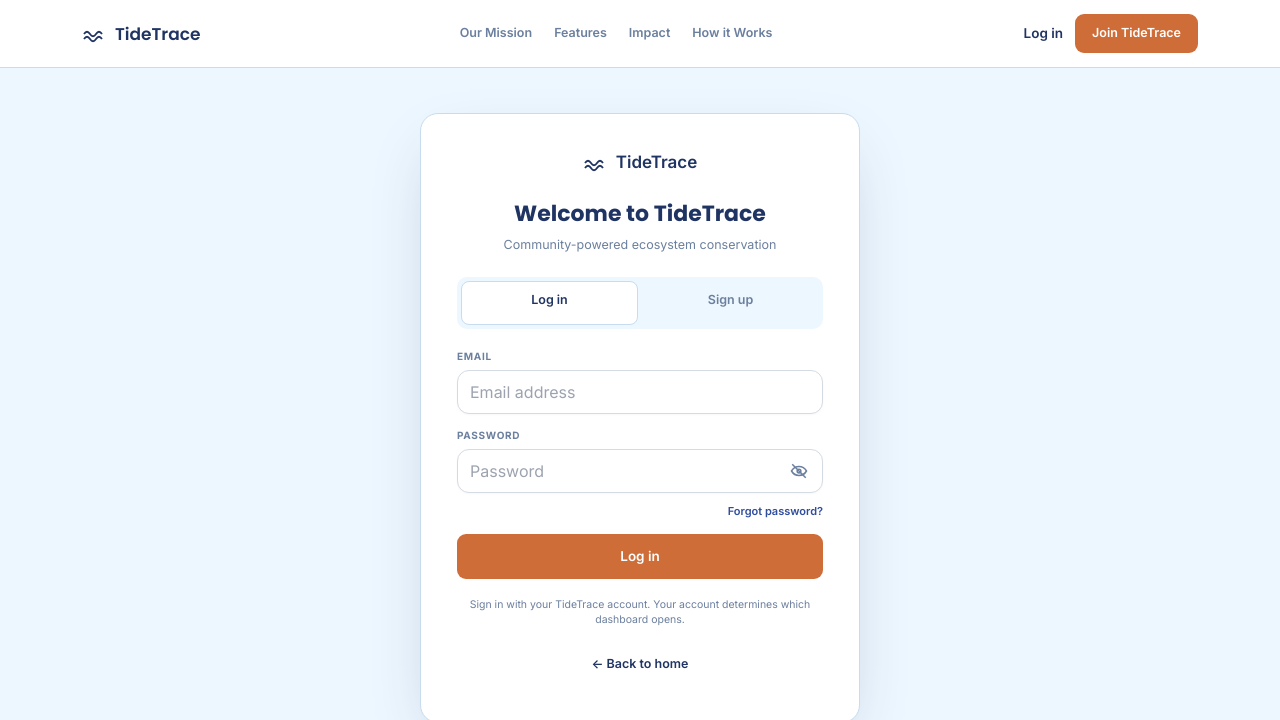
backend authentication › rejects suspended accounts even when password login succeeds
This screenshot has width=1280, height=720.
Type "member@example.test" into the field labelled "Email". click: [640, 392]
box: [457, 370, 823, 414]
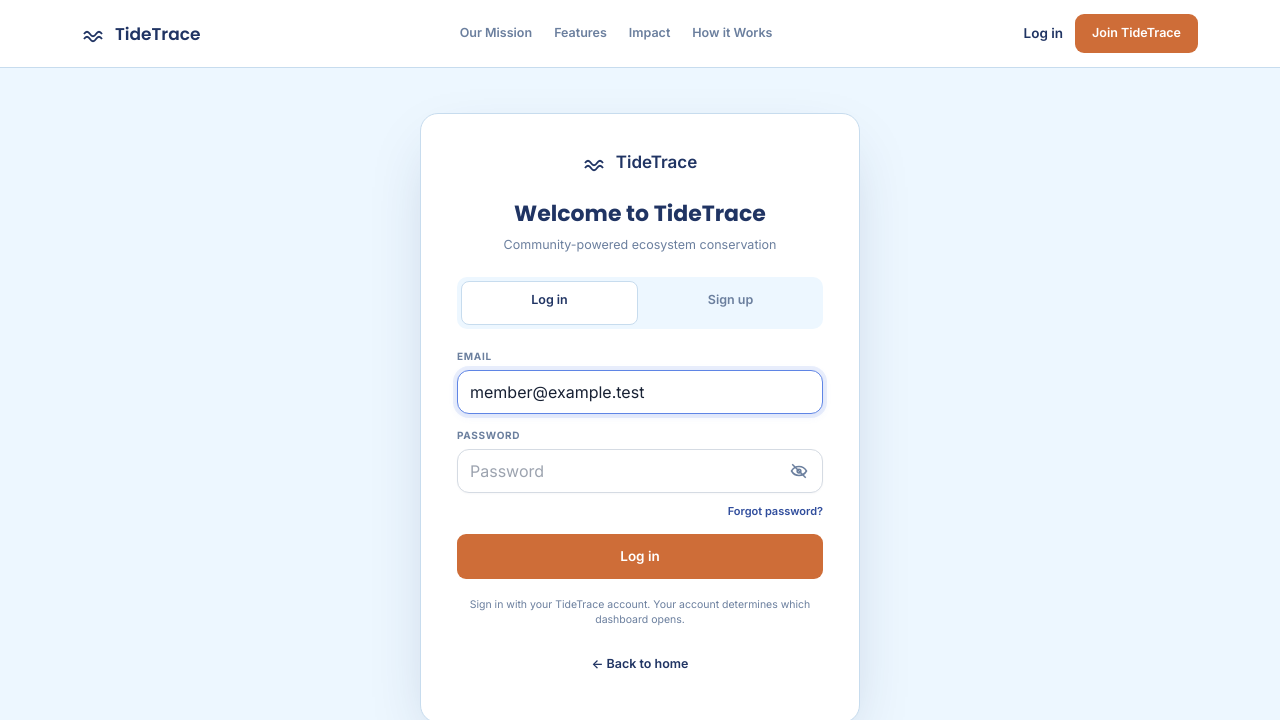
Type "correct-password" into the password field labelled "Password". click: [640, 471]
box: [457, 449, 823, 493]
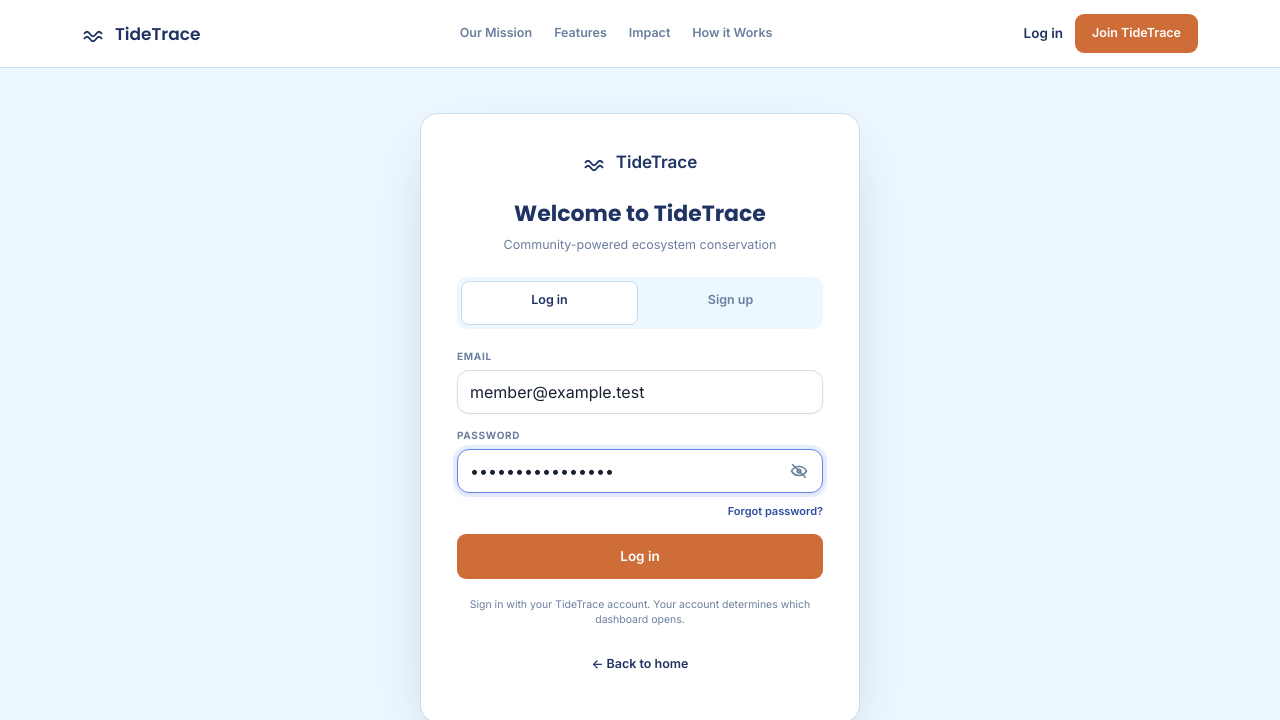
Click the button "Log in". click: [640, 556]
box: [457, 534, 823, 579]
(page scrolled)
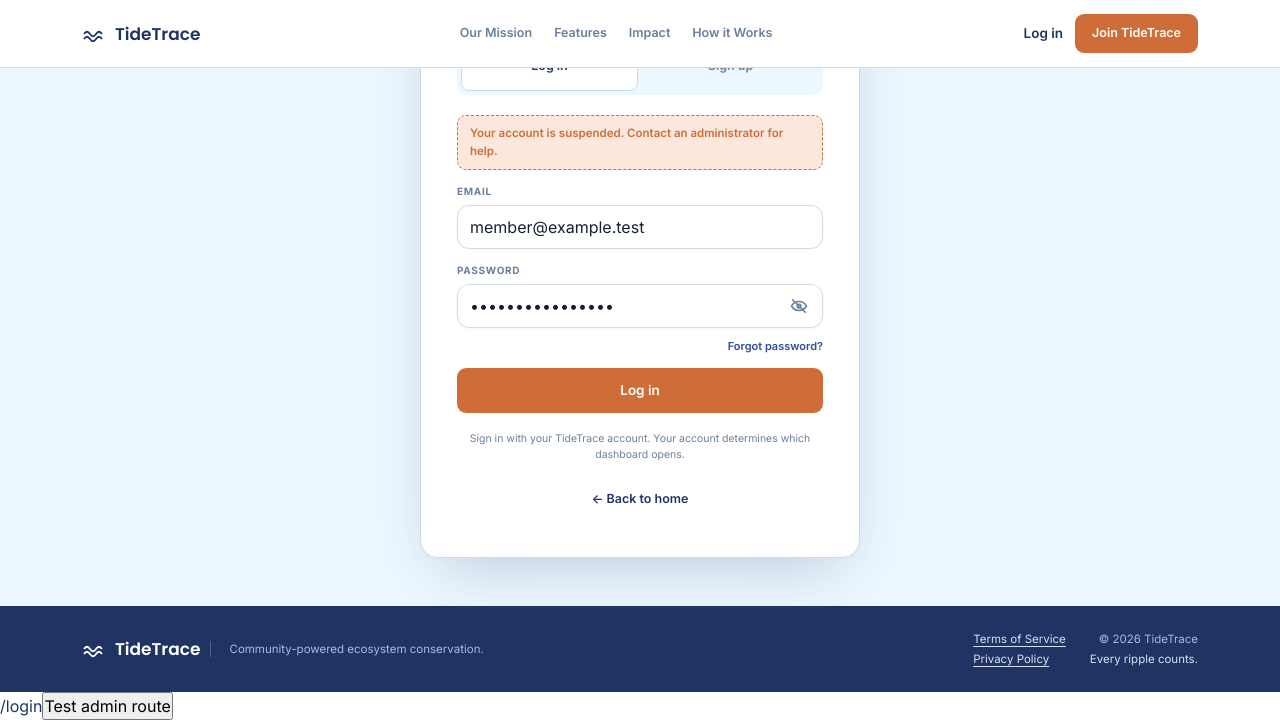
expect the text with test id "route" reads "/login": met, box [0, 696, 42, 716]
expect the message shows "suspended": met, box [470, 126, 783, 158]
